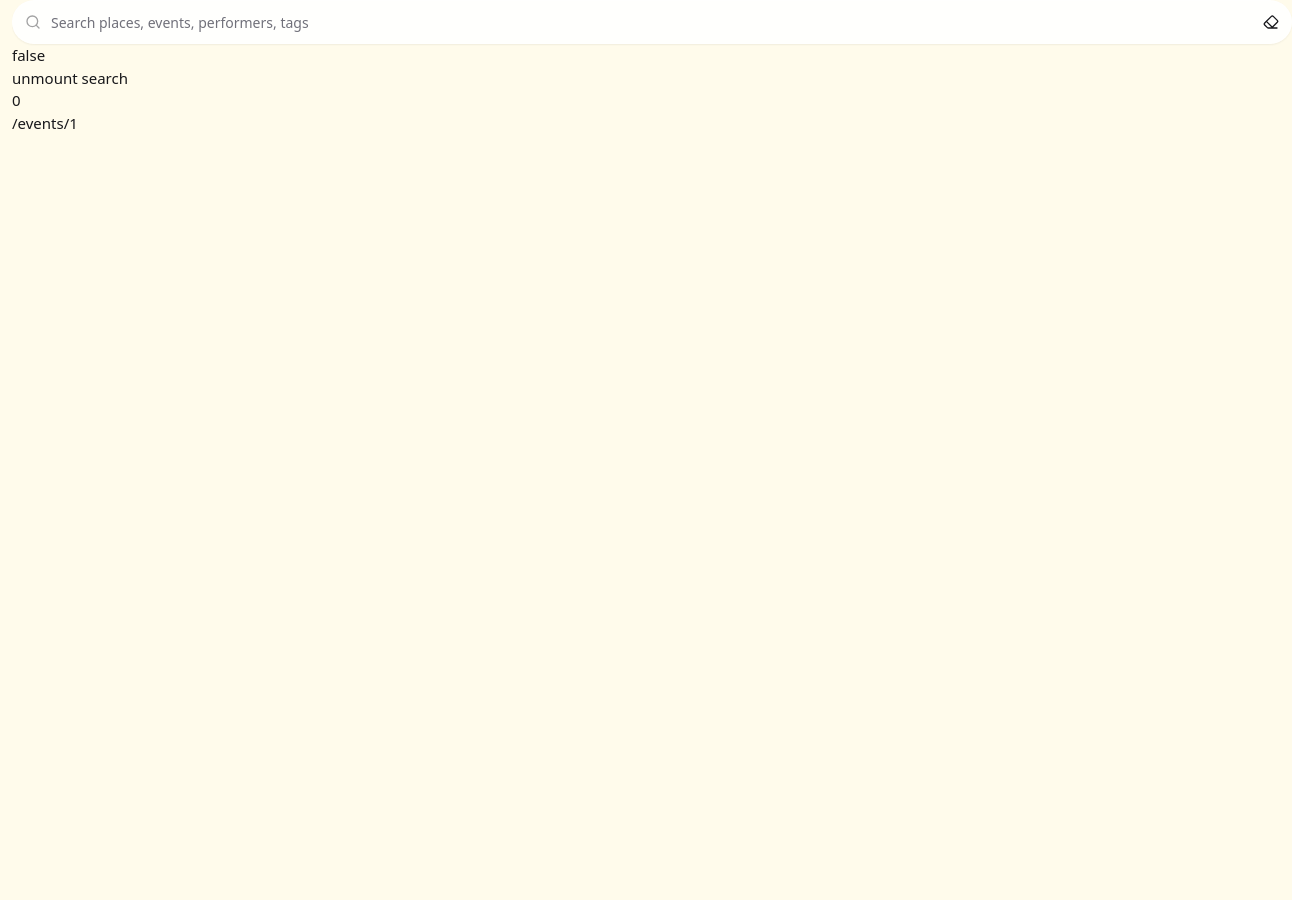
Test case: SearchBar › sends a picked hit to the map with focus and query when not on the map
The width and height of the screenshot is (1292, 900).
Type "techno" into the dropdown labelled "Search" at {"x": 652, "y": 22}, box [49,10,1255,34]
Wait 300 ms
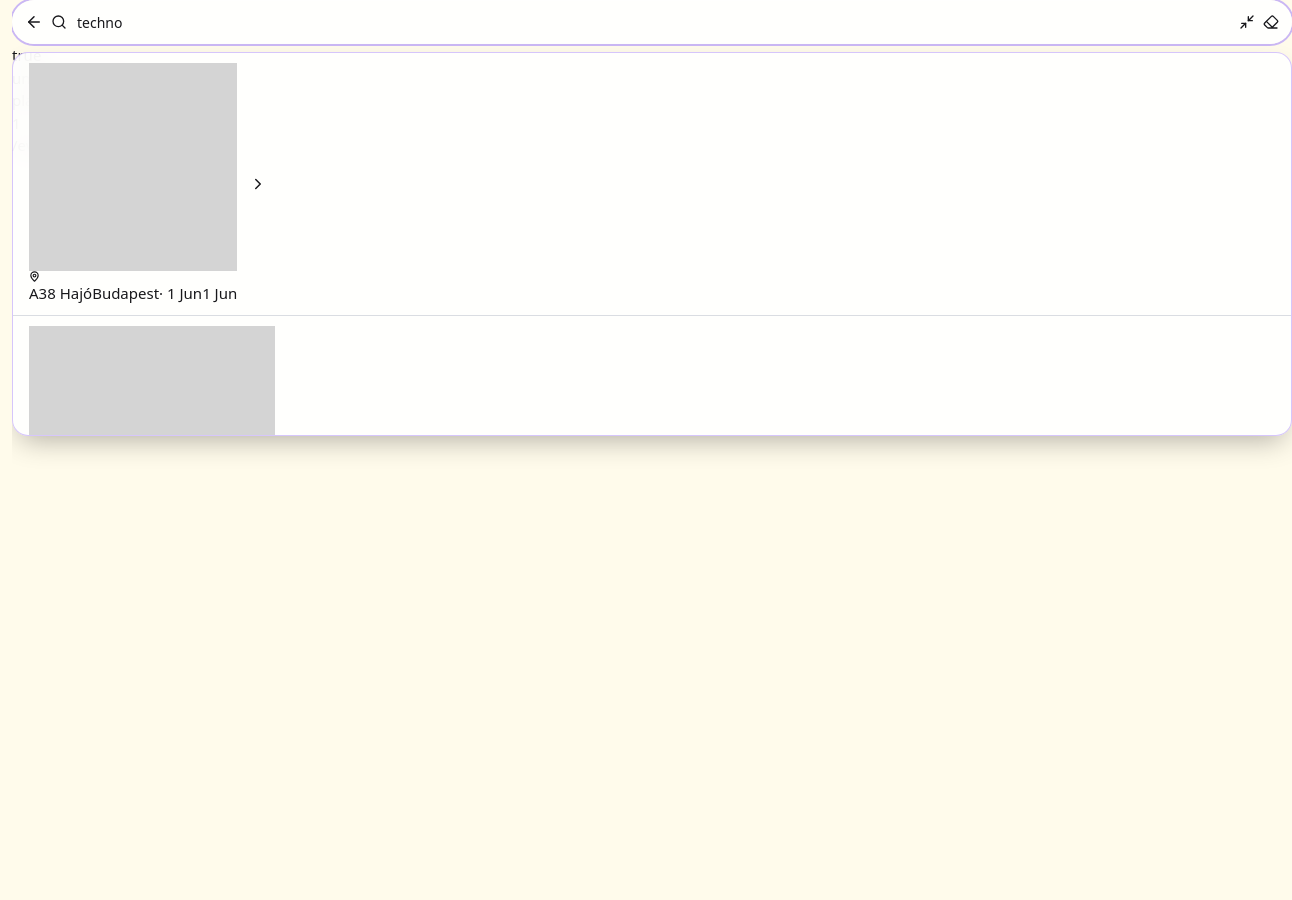
Click the option "Techno Night" at {"x": 652, "y": 333}, box [13,315,1291,615]
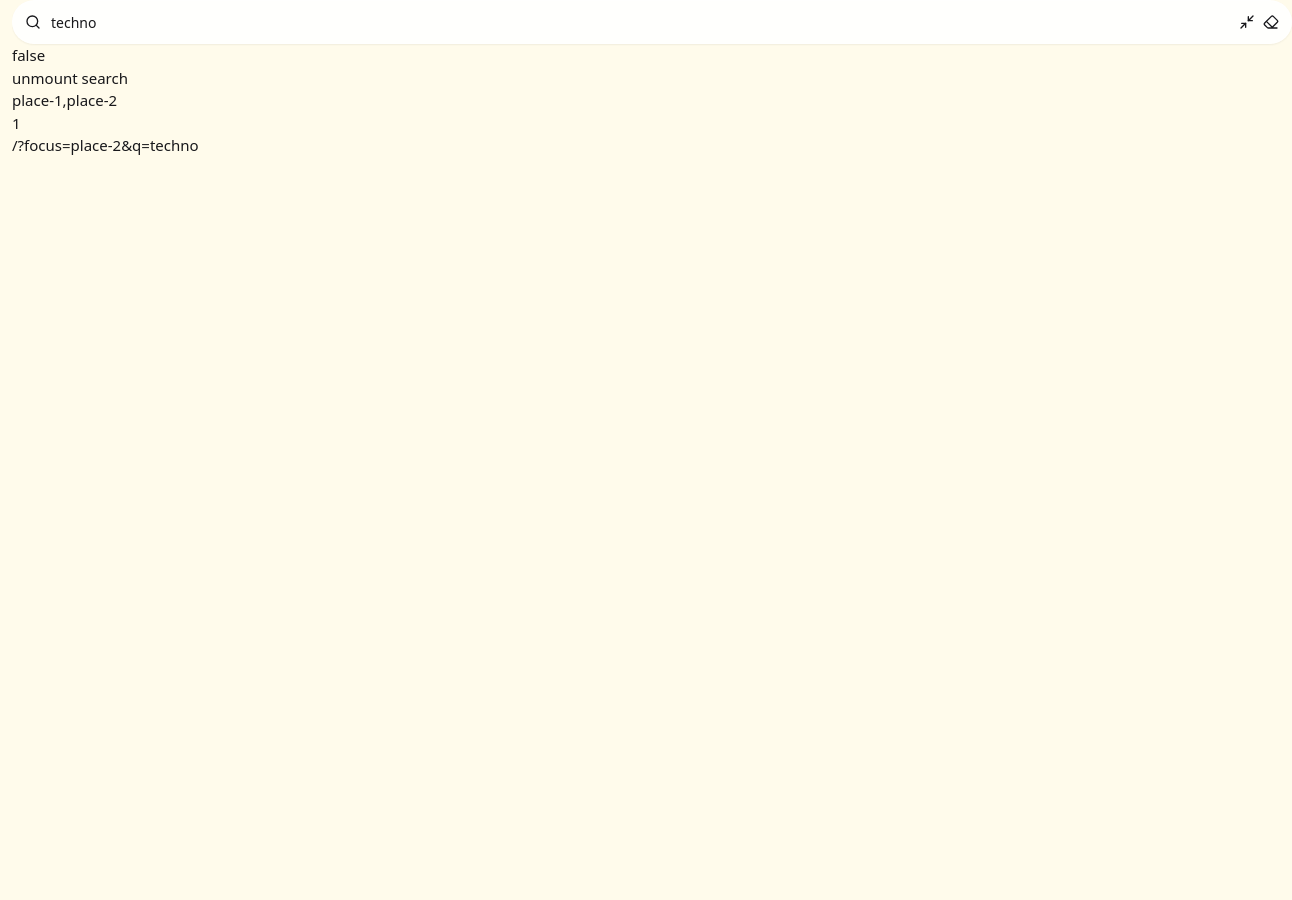
Expected: the text with test id "location" reads "/?focus=place-2&q=techno", [12,135,199,155]
